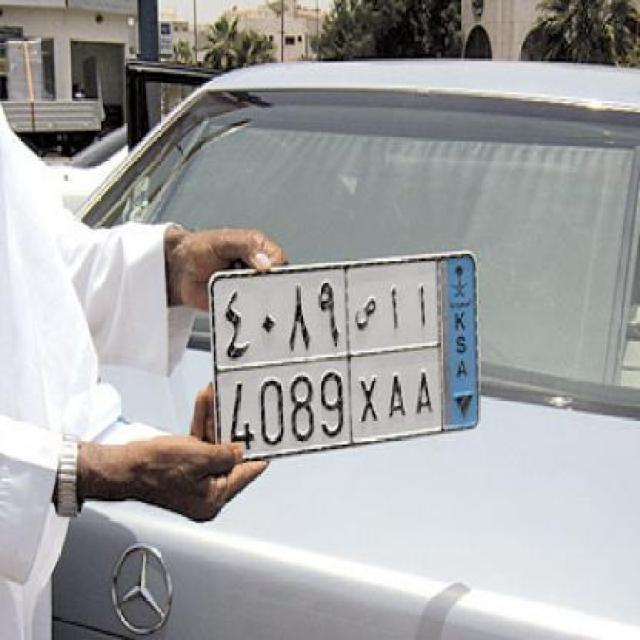license_plate: (204, 249, 482, 469)
